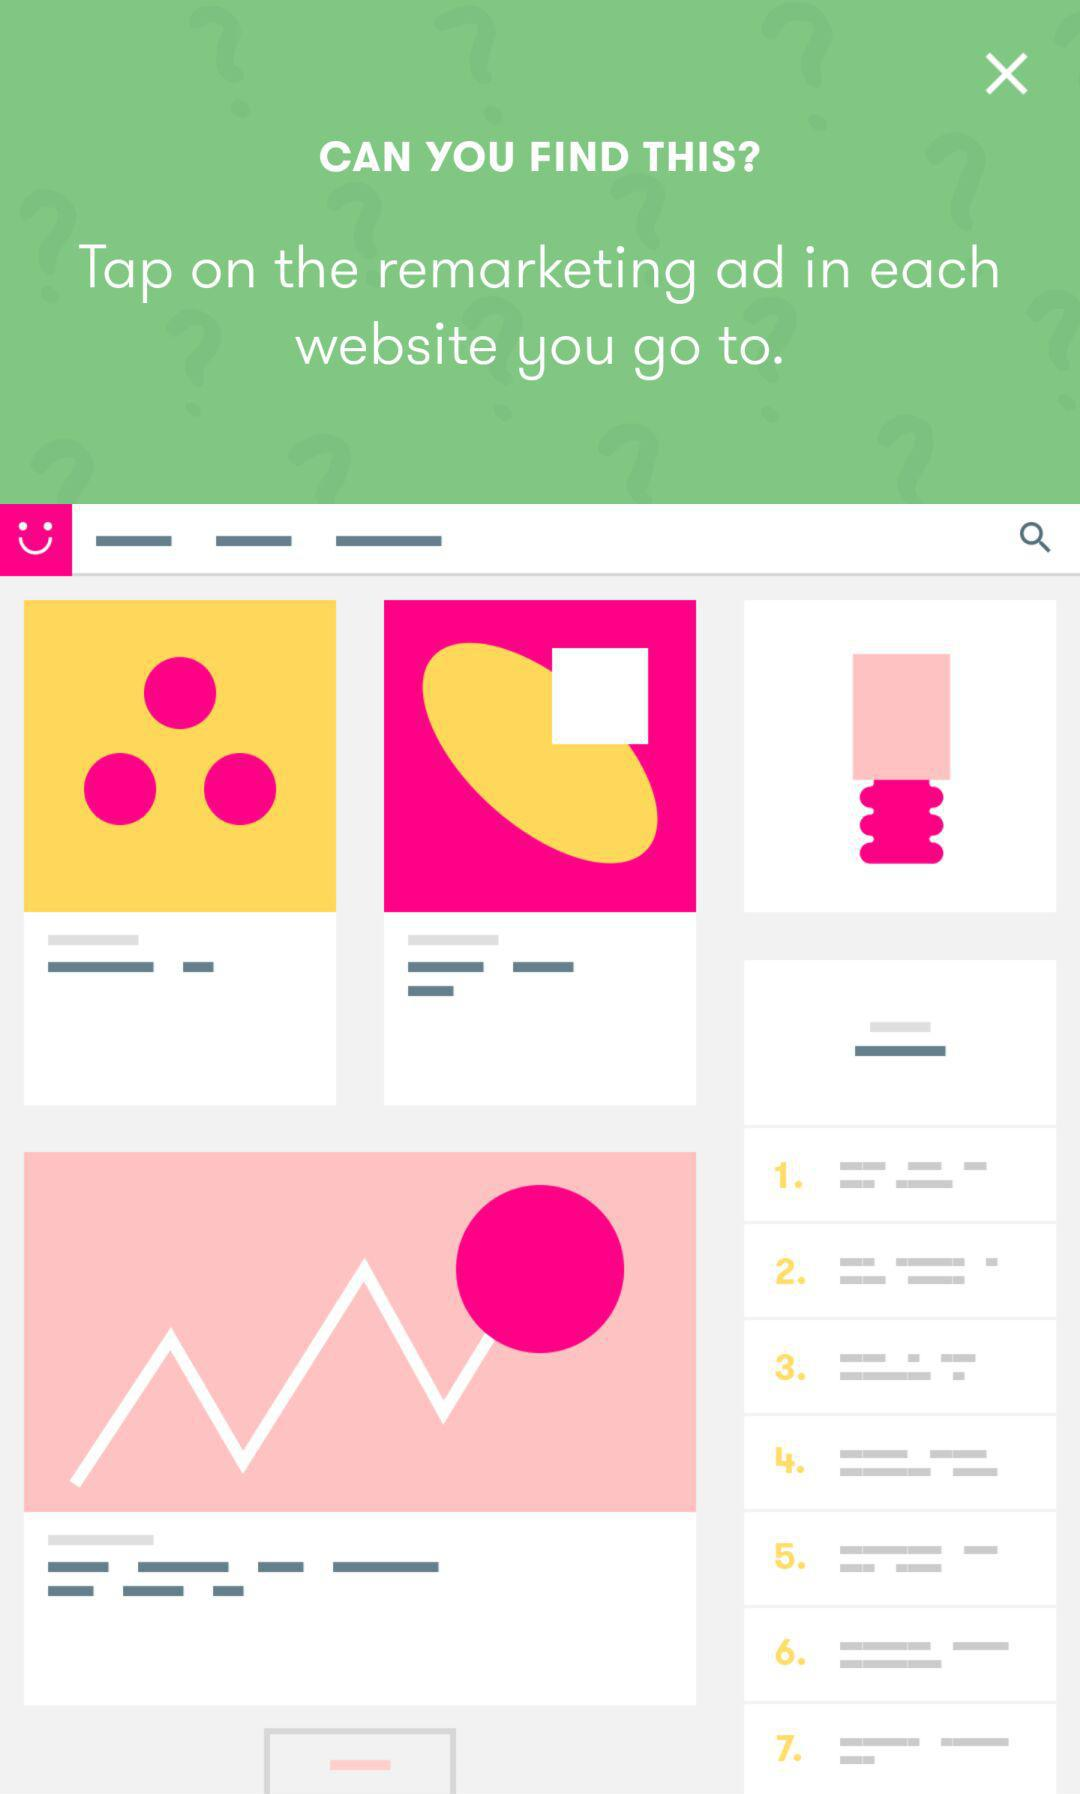BackgroundImage: (1, 504, 1080, 1794)
Icon: (985, 53, 1030, 97)
Text: (78, 242, 1001, 383), (319, 138, 761, 176)
